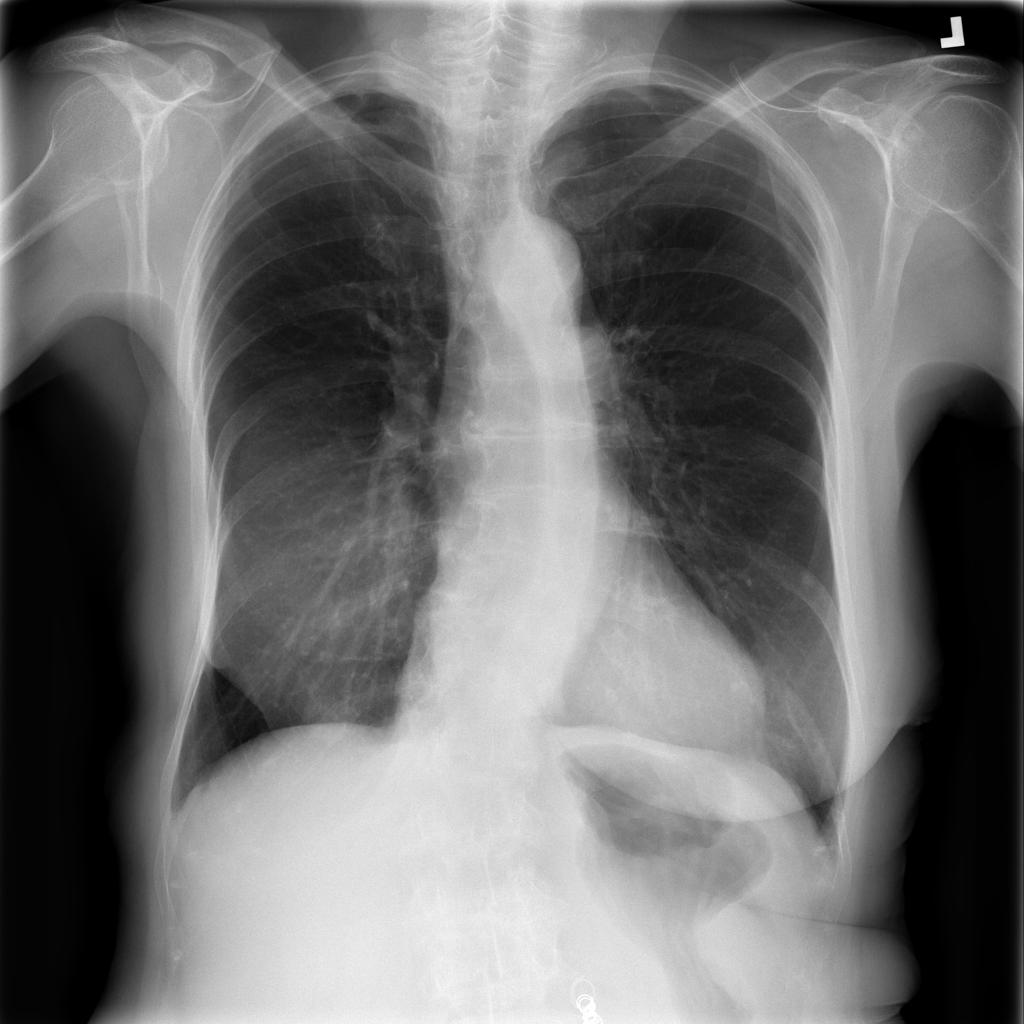nodule: (786, 552, 834, 604)
